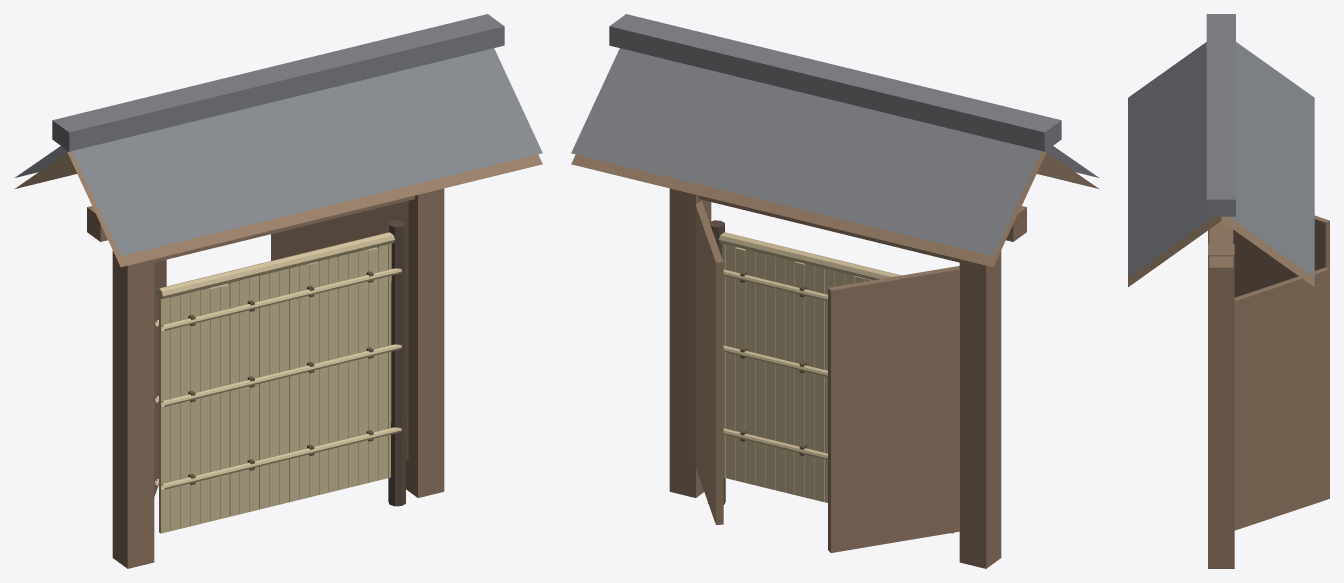
File: fence.glb
3 renders of one model, left to right at view 1: azimuth 30°, elevation 25°; view 2: azimuth 150°, elevation 25°; view 3: azimuth 270°, elevation 25°, orthographic. The views are drawn at different scales.
Parts seen in each view (by area): view 1: Gate, FenceSeg; view 2: Gate, FenceSeg; view 3: Gate.
Boxes of the visible parts, x1,y1,x2,y2 form: Gate: (15,14,542,568); FenceSeg: (155,220,405,533); Gate: (571,14,1098,568); FenceSeg: (708,220,953,533); Gate: (1128,14,1329,568).
Bounding box in the file's own units: 3.3 × 3.32 × 1.51.
